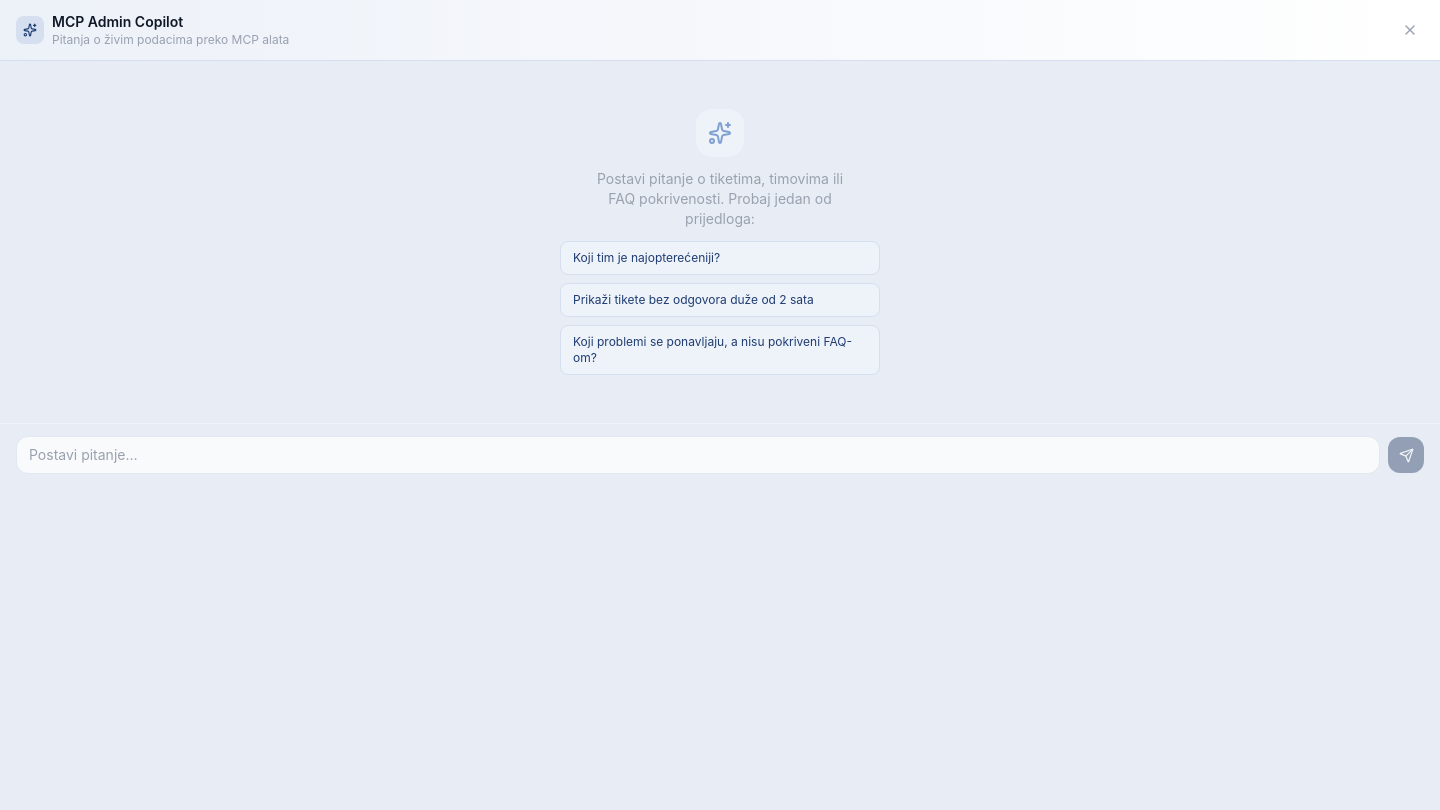
AdminCopilotPanel (PB-70 / US-108) › slanje pitanja poziva adminCopilotQuery i prikazuje odgovor u chat formatu
Click the button "Koji tim je najopterećeniji?": (720, 258) [560,241,880,275]
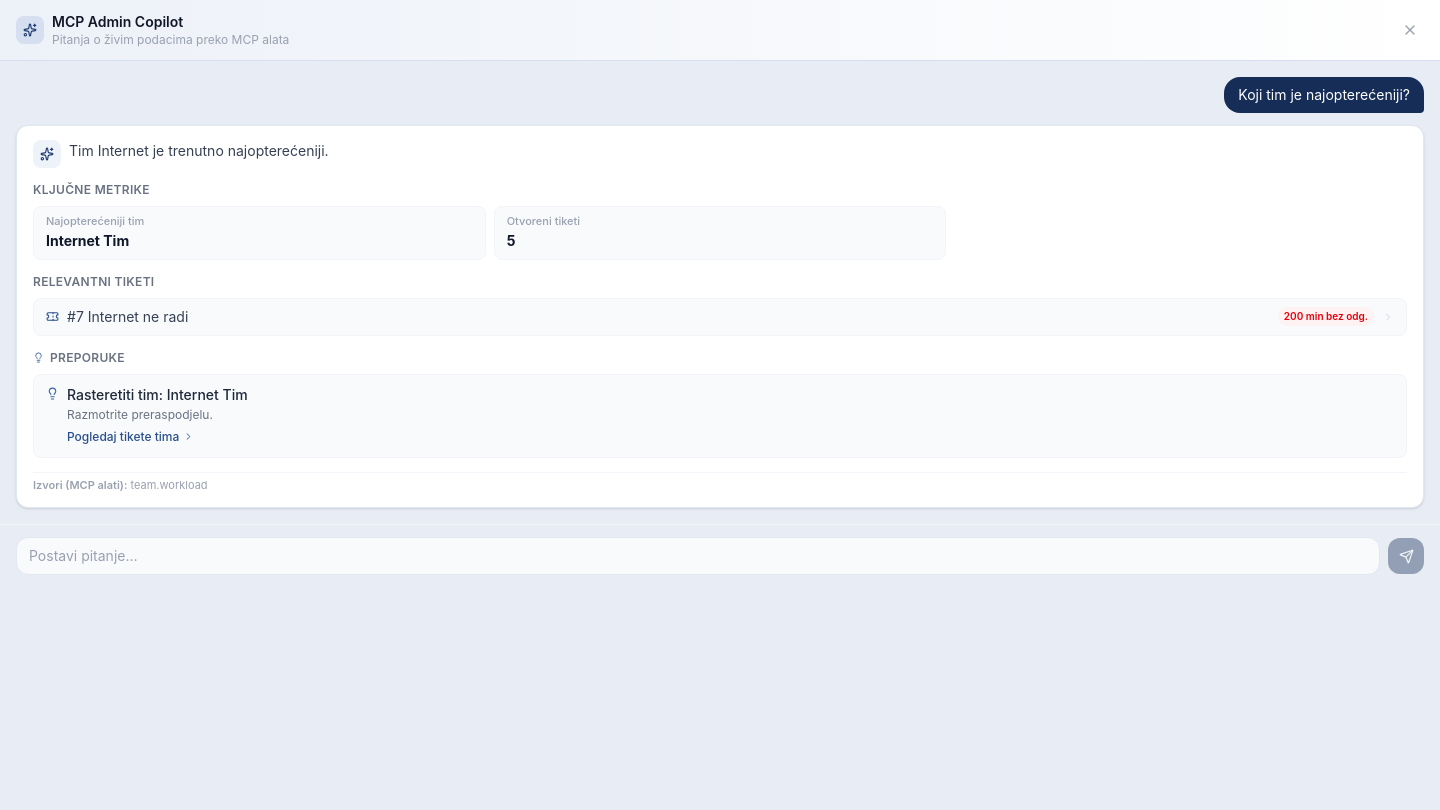
Expected: the text "Tim Internet je trenutno najopterećeniji." is shown, [69,142,329,159]
